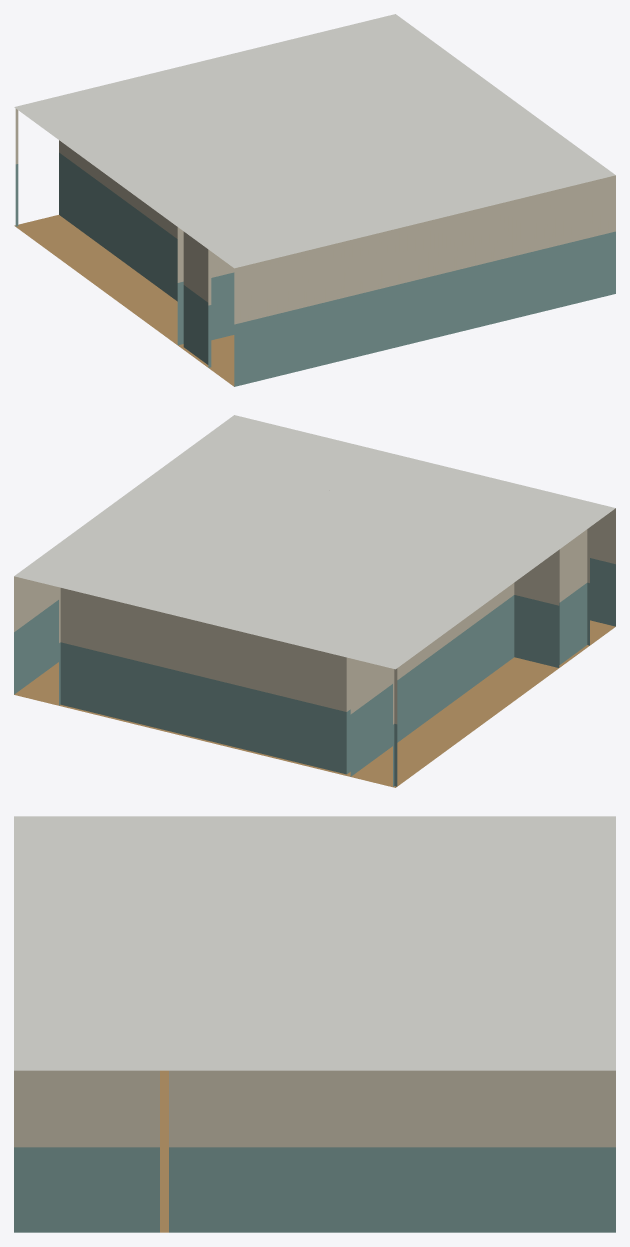
Rendered from chunk_4_4.glb.
3 views of the same model, one above another, from view 1: azimuth 30°, elevation 25°; view 2: azimuth 150°, elevation 25°; view 3: azimuth 270°, elevation 25° (orthographic). The views are drawn at different scales.
Parts seen in each view (by area): view 1: chunk_4_4; view 2: chunk_4_4; view 3: chunk_4_4.
Part boxes in pixels (box(x1,y1,x2,y2)): chunk_4_4: box(14, 14, 615, 386); chunk_4_4: box(14, 415, 615, 787); chunk_4_4: box(14, 816, 615, 1232).
Size of the model in its own units: 9.6 by 2.85 by 9.6.
